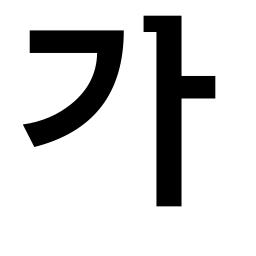Gaji: (141, 60, 200, 119)
